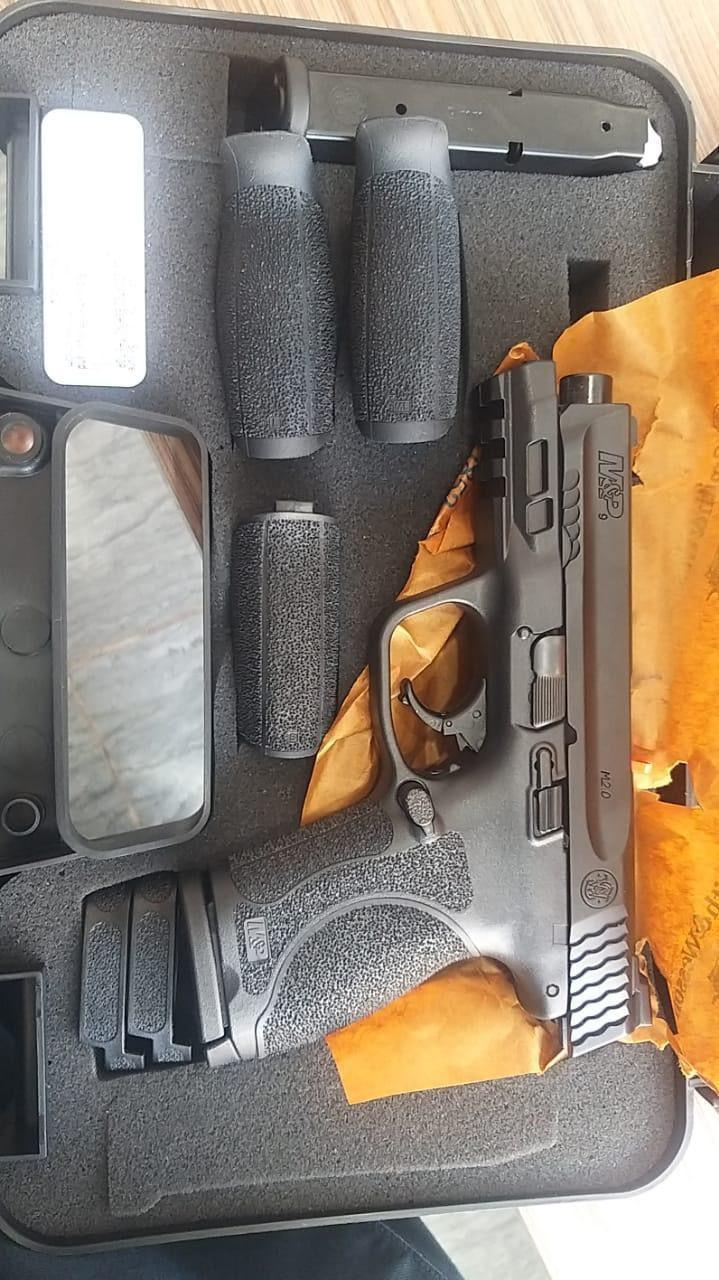weapon: (181, 358, 656, 1072)
